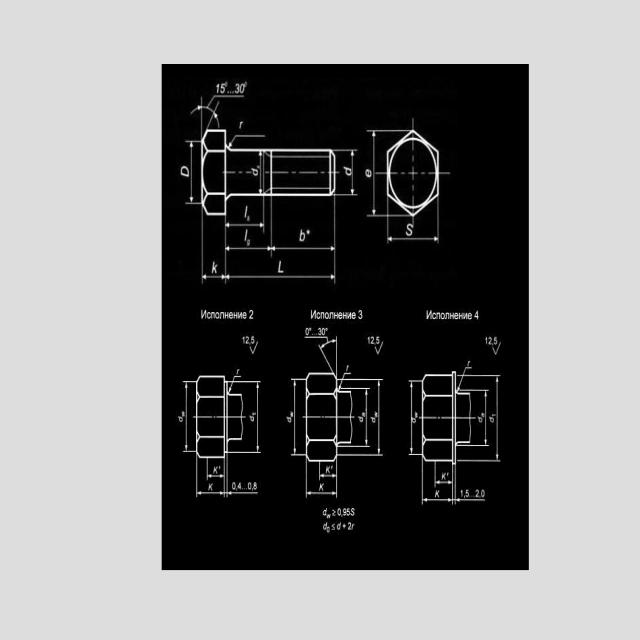marking_line: (227, 273, 336, 279), (495, 377, 500, 459), (272, 246, 335, 252), (189, 142, 195, 202), (365, 389, 371, 445), (227, 245, 271, 252), (377, 380, 381, 455), (294, 380, 298, 453), (256, 381, 260, 451), (185, 384, 189, 450), (226, 222, 263, 229), (457, 496, 486, 504), (410, 382, 413, 454), (306, 490, 335, 497), (228, 490, 258, 496), (424, 497, 452, 503), (259, 153, 263, 193), (484, 393, 487, 444), (203, 275, 225, 281), (198, 492, 224, 496), (208, 473, 223, 479), (435, 480, 453, 485), (320, 473, 337, 478)
numeric: (233, 81, 246, 94), (213, 81, 227, 93), (337, 506, 351, 517), (337, 521, 352, 531), (246, 482, 258, 493), (242, 335, 255, 345), (485, 335, 498, 345), (368, 336, 380, 345), (476, 490, 486, 500), (459, 489, 469, 499), (230, 483, 242, 491), (473, 307, 479, 321), (356, 309, 364, 319), (304, 325, 310, 337), (318, 326, 325, 336)
special_symbol: (208, 96, 247, 116), (319, 339, 337, 374), (228, 133, 266, 147), (226, 373, 238, 392), (339, 371, 349, 389), (247, 343, 260, 356), (373, 342, 383, 355), (492, 344, 500, 356)
